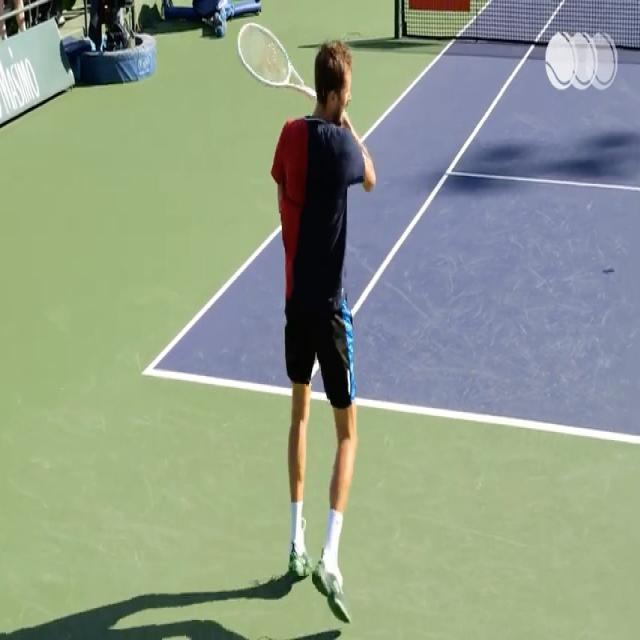forehand-finish: (222, 18, 395, 626)
